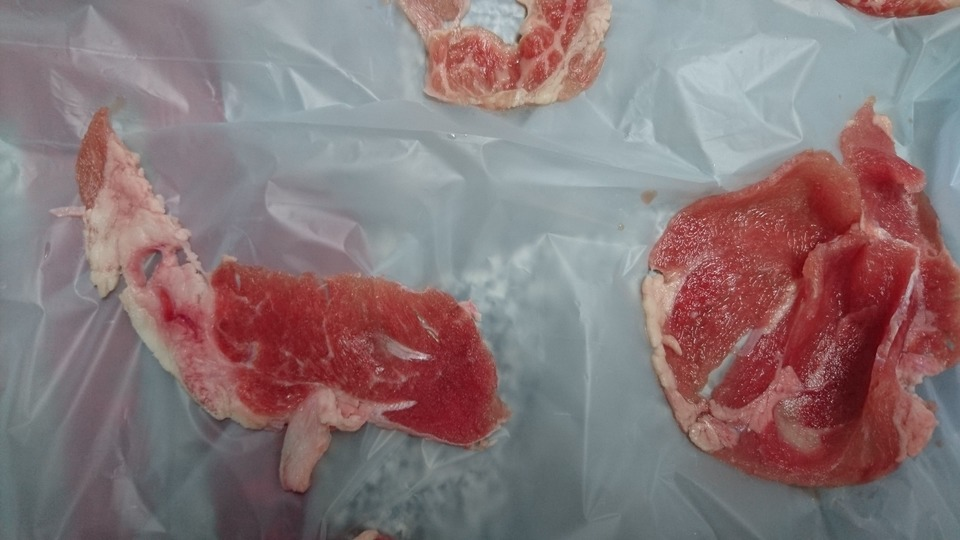restructured meat: (69, 133, 499, 480), (641, 98, 949, 493), (391, 1, 610, 111)
